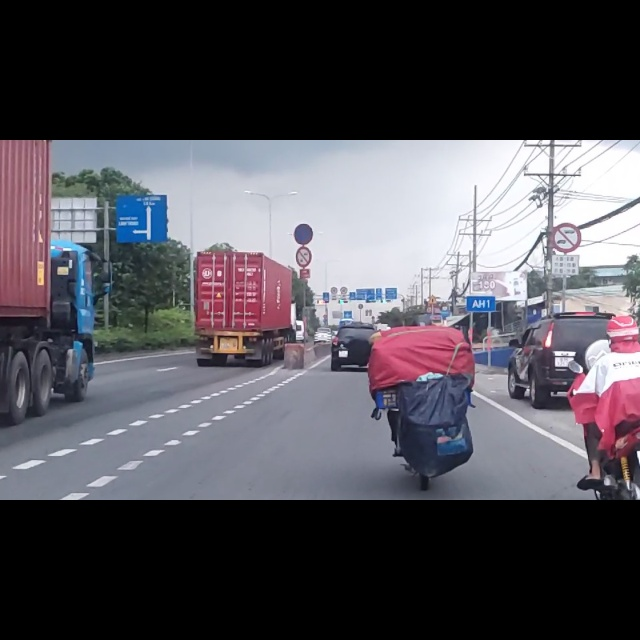bien_hieu_lenh: (551, 146, 581, 200), (293, 147, 314, 186), (297, 190, 311, 226)
